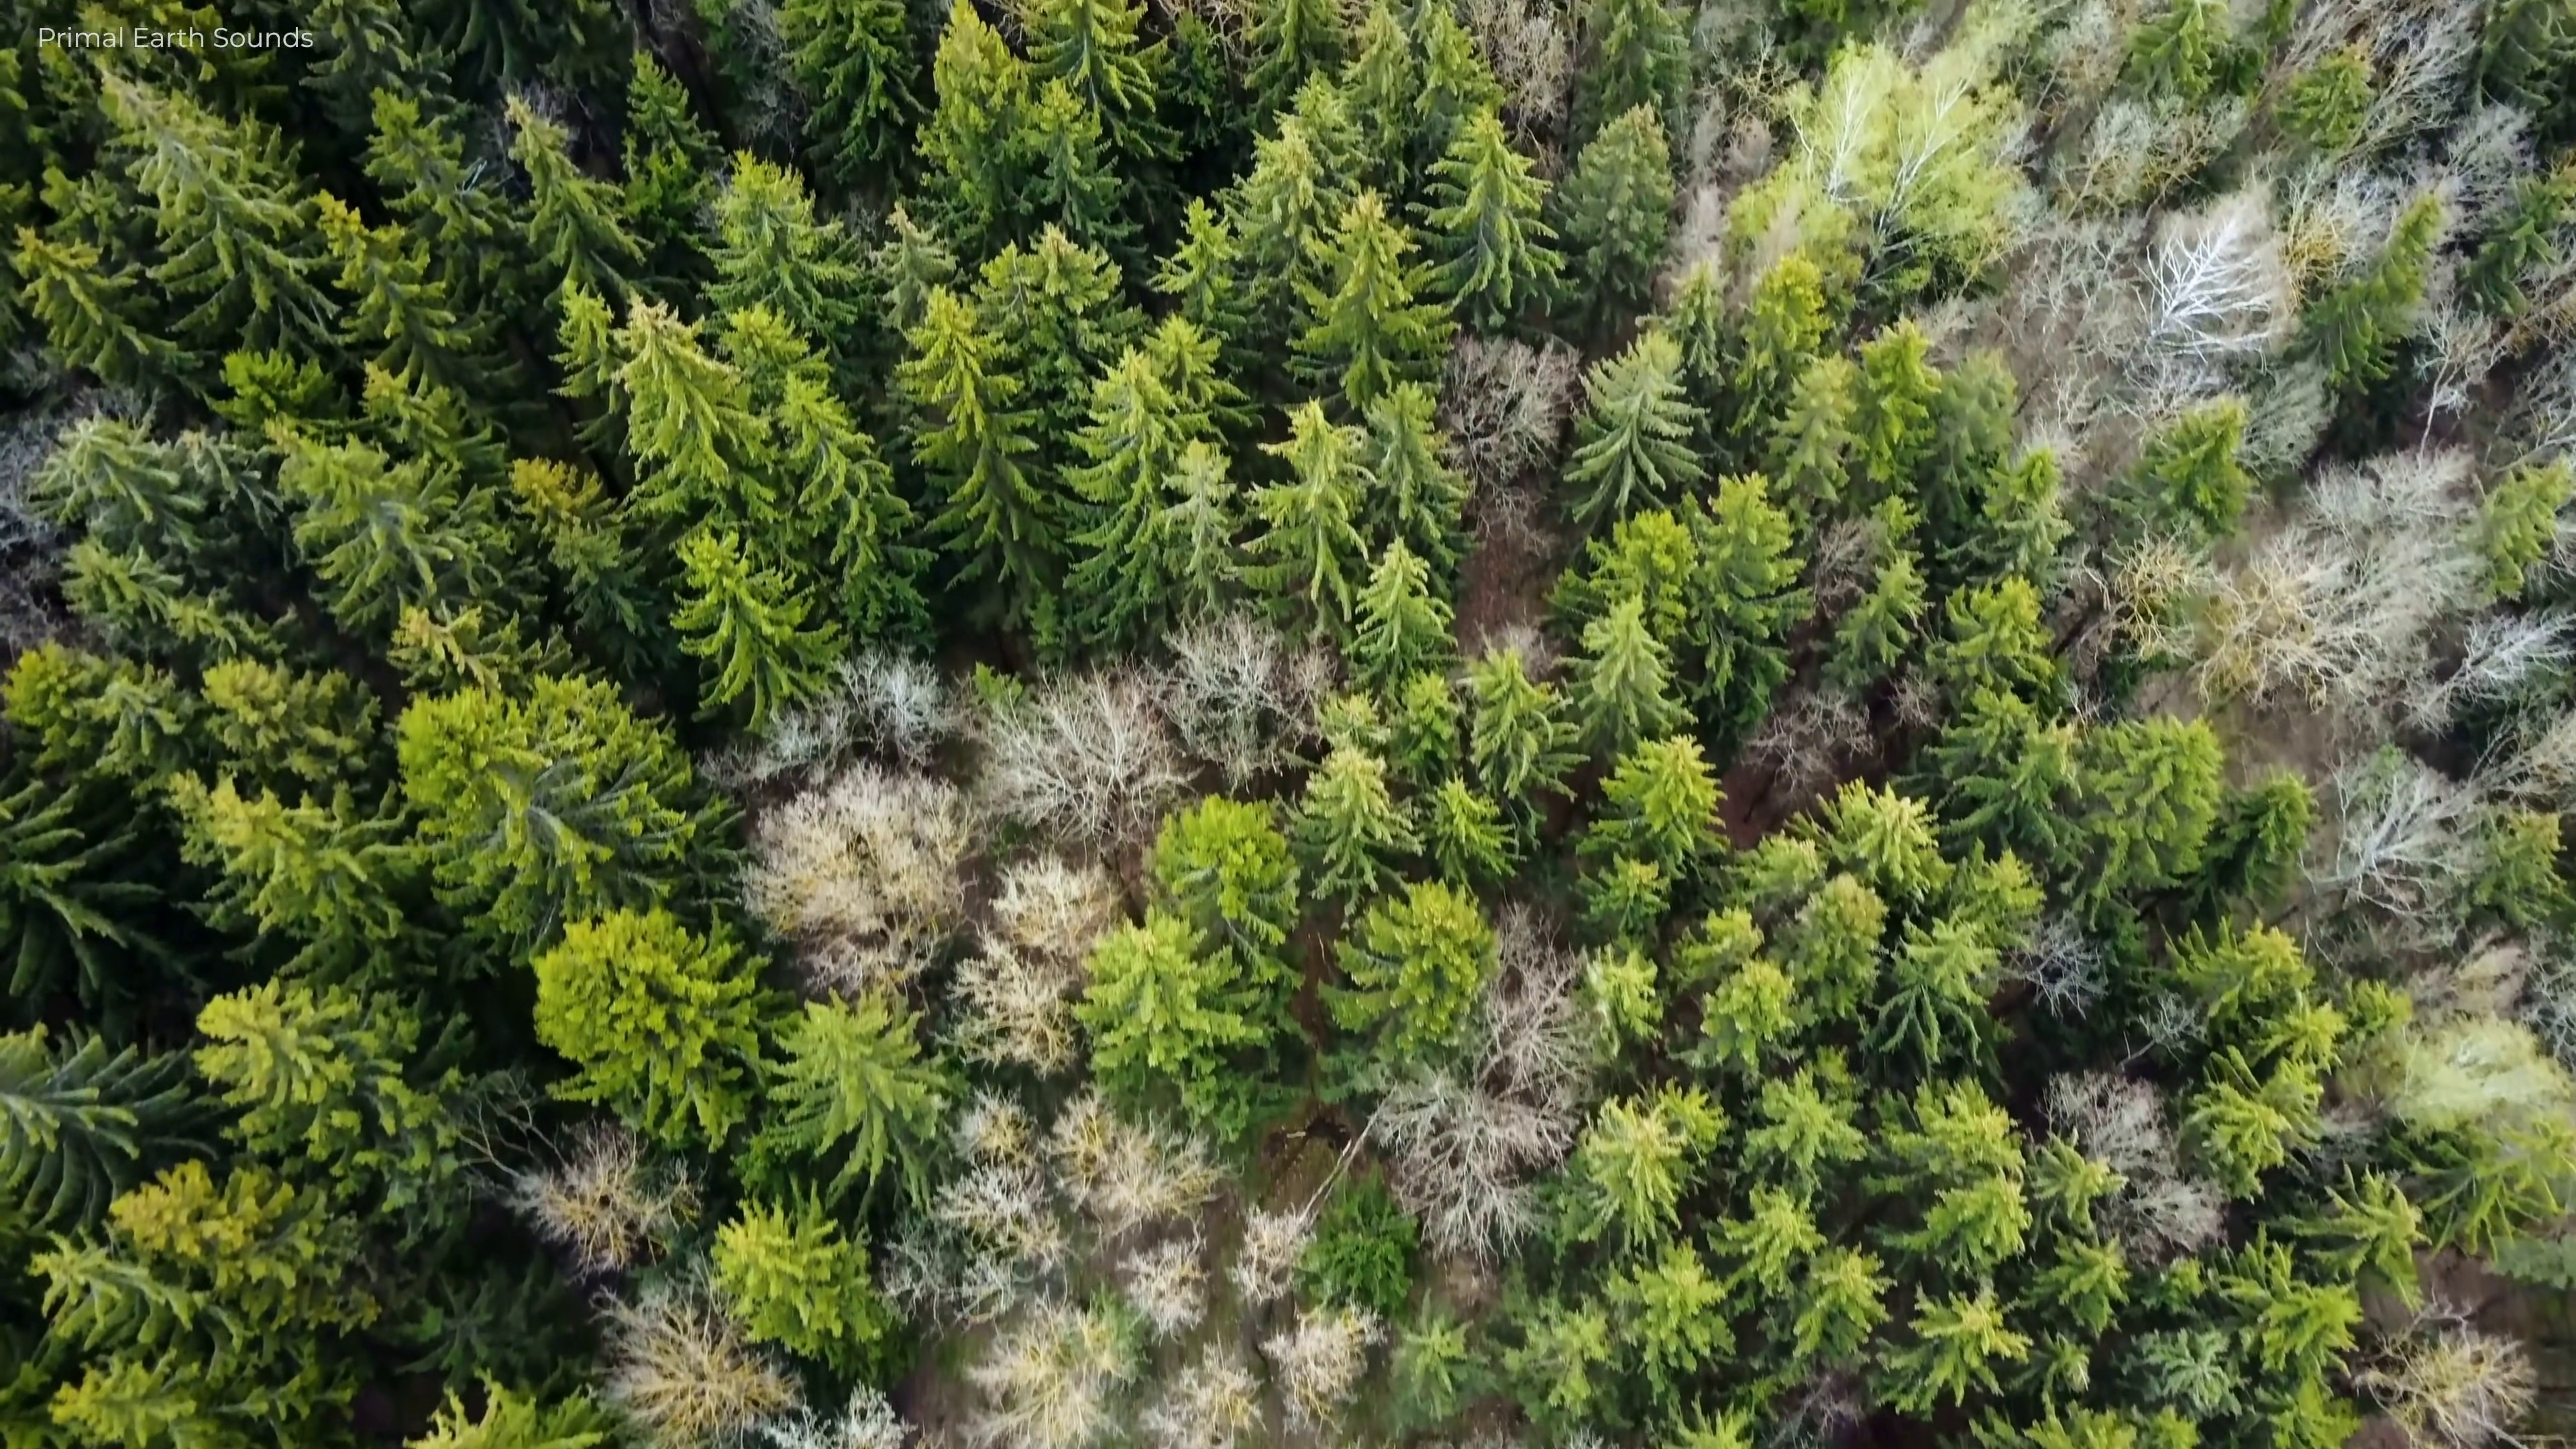tree: (203, 980, 481, 1214), (524, 908, 759, 1146), (108, 90, 315, 329), (180, 778, 407, 966), (391, 694, 589, 906), (906, 297, 1016, 630), (0, 1023, 191, 1210), (770, 384, 916, 621), (1246, 410, 1378, 644), (1145, 800, 1288, 1016), (713, 1210, 893, 1380), (1334, 888, 1502, 1069), (777, 991, 938, 1177), (554, 678, 720, 856), (671, 540, 821, 736), (985, 239, 1104, 471), (1076, 359, 1171, 640), (1424, 113, 1546, 333), (51, 414, 211, 582), (1085, 924, 1210, 1134), (297, 444, 458, 605), (4, 225, 166, 384), (499, 90, 630, 285), (718, 157, 851, 345), (14, 644, 186, 784), (2082, 724, 2231, 885), (771, 2, 916, 166), (308, 193, 451, 356), (2429, 1102, 2572, 1265), (619, 290, 727, 506), (2304, 203, 2456, 356), (209, 653, 387, 777), (363, 90, 508, 242), (506, 456, 633, 628), (929, 7, 1024, 225), (2118, 400, 2265, 538), (1568, 119, 1679, 294), (384, 1265, 566, 1371), (34, 1244, 218, 1348), (1316, 195, 1414, 384), (1583, 338, 1686, 511), (1541, 1106, 1684, 1224), (1897, 1284, 2026, 1412), (2206, 771, 2323, 911), (1309, 736, 1414, 892), (1599, 731, 1727, 858), (1606, 1244, 1732, 1369), (2457, 163, 2576, 295), (1937, 570, 2065, 692), (1909, 352, 2024, 487), (1341, 550, 1451, 690), (1778, 883, 1893, 1014), (1465, 649, 1560, 803), (1026, 80, 1118, 237), (2454, 805, 2571, 929), (1040, 0, 1155, 126), (1493, 1306, 1617, 1419), (625, 53, 709, 218), (1576, 614, 1677, 750), (1720, 260, 1826, 386), (2277, 39, 2381, 166), (1904, 1171, 2040, 1269), (1686, 957, 1798, 1076), (1980, 729, 2093, 844), (1594, 2, 1697, 127), (1764, 361, 1861, 492), (1821, 563, 1932, 676), (1890, 1088, 2026, 1180), (53, 1355, 203, 1438), (1783, 1247, 1897, 1357), (1171, 433, 1235, 628), (2477, 453, 2571, 584), (1720, 1185, 1826, 1300), (1702, 472, 1796, 602), (1594, 513, 1691, 635), (71, 545, 179, 653), (2296, 1182, 2422, 1274), (1161, 198, 1240, 343), (1421, 778, 1514, 901), (308, 2, 432, 94), (2181, 931, 2319, 1012), (1829, 786, 1936, 890), (1925, 692, 2040, 787), (1893, 924, 1999, 1026), (1385, 1315, 1486, 1421), (2123, 7, 2222, 113), (1741, 1081, 1851, 1175), (1974, 458, 2065, 568), (2185, 1100, 2291, 1189), (2254, 1274, 2360, 1361), (731, 306, 828, 400), (1582, 856, 1677, 945), (1727, 835, 1835, 911), (2031, 1143, 2137, 1219), (395, 607, 492, 686), (2040, 1238, 2130, 1322), (1246, 117, 1313, 225), (2146, 1332, 2240, 1408), (1353, 4, 1412, 126), (1679, 906, 1769, 978), (1295, 69, 1357, 172), (1260, 2, 1311, 119), (2258, 1008, 2348, 1060), (2265, 1384, 2337, 1440)
